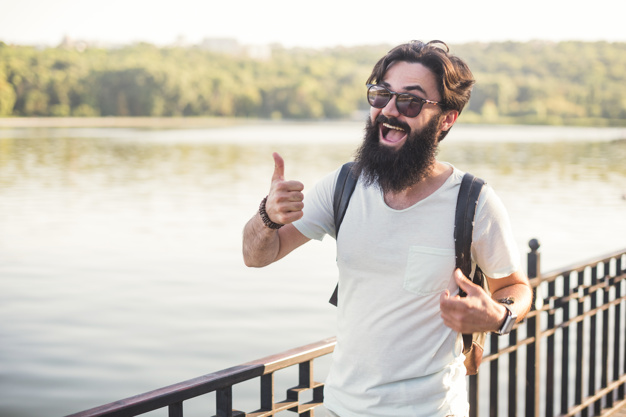thumbsup: (270, 152, 303, 223)
